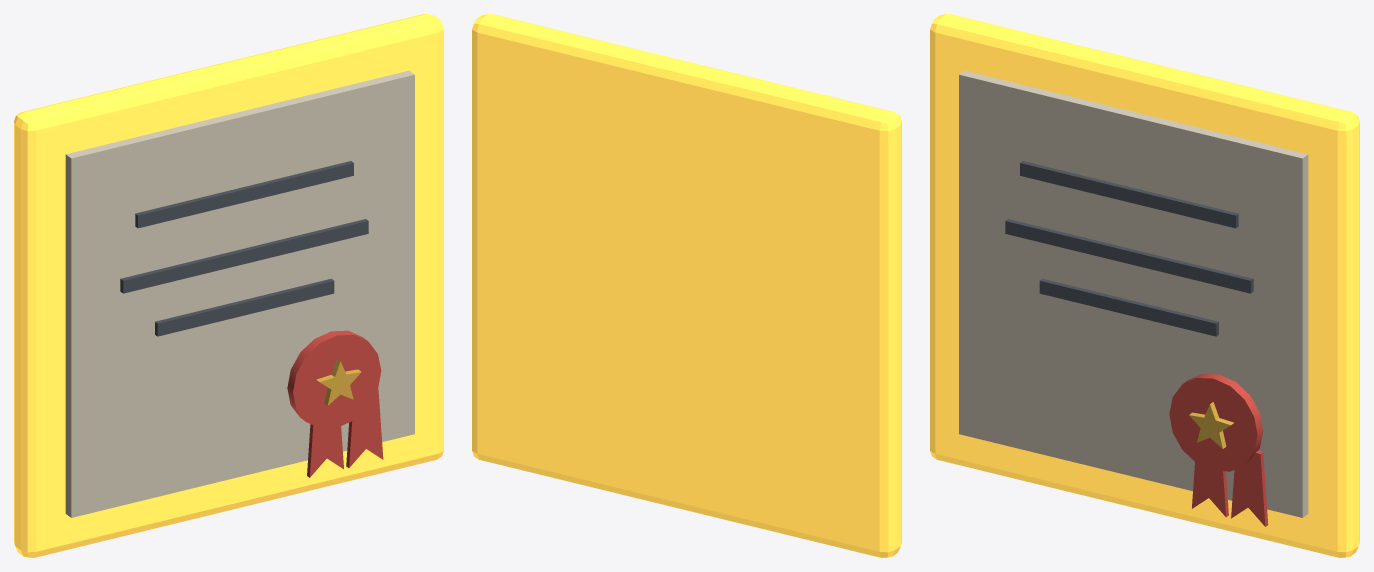
File: trofeu-diploma.glb
3 renders of one model, left to right at view 1: azimuth 30°, elevation 25°; view 2: azimuth 150°, elevation 25°; view 3: azimuth 330°, elevation 25°, orthographic.
Visible parts, largest first — view 1: trofeu-diploma; view 2: trofeu-diploma; view 3: trofeu-diploma.
Part boxes in pixels (x1,y1,x2,y2): trofeu-diploma: [14, 14, 443, 557]; trofeu-diploma: [472, 14, 901, 557]; trofeu-diploma: [930, 14, 1359, 557].
Bounding box in the file's own units: 0.86 × 0.86 × 0.1125.
